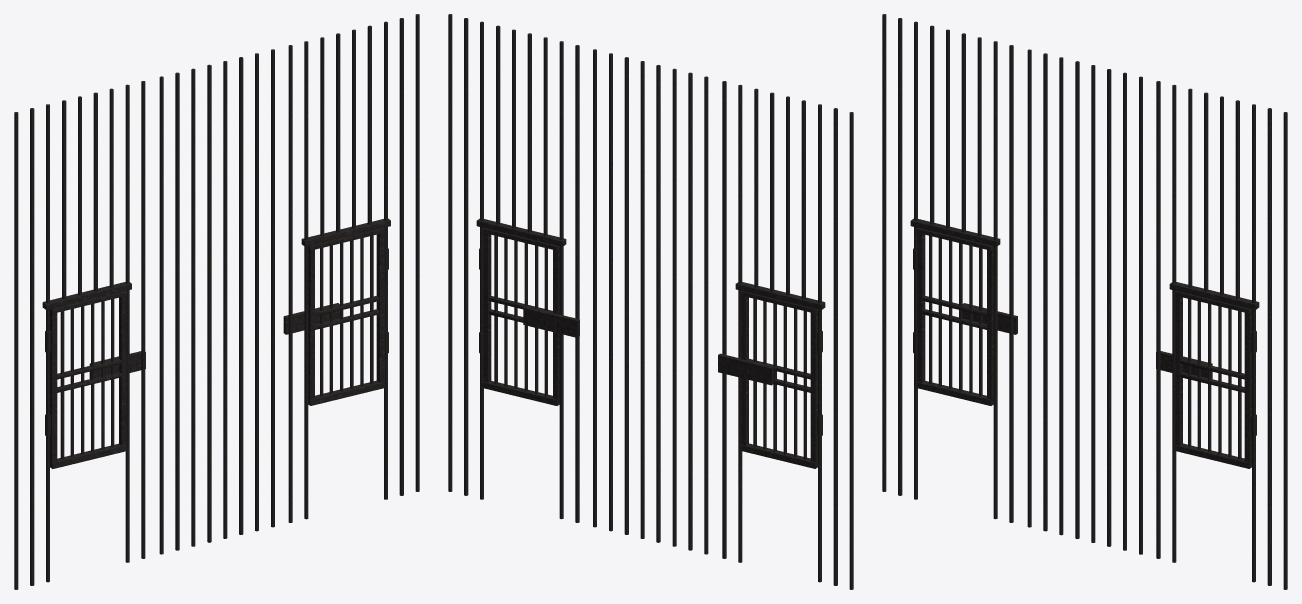
The model's file is Sewer_Gates.FBX.
3 views of the same model, side by side, from view 1: azimuth 30°, elevation 25°; view 2: azimuth 150°, elevation 25°; view 3: azimuth 330°, elevation 25° (orthographic).
Visible parts, largest first — view 1: Sewer_Gates, Sewer_Gate_Left, Sewer_Gate_Right; view 2: Sewer_Gates, Sewer_Gate_Left, Sewer_Gate_Right; view 3: Sewer_Gates, Sewer_Gate_Right, Sewer_Gate_Left.
Part boxes in pixels (x1,y1,x2,y2): Sewer_Gates: (14,14,419,589); Sewer_Gate_Left: (42,282,131,468); Sewer_Gate_Right: (301,218,390,405); Sewer_Gates: (448,14,853,589); Sewer_Gate_Left: (735,282,825,468); Sewer_Gate_Right: (476,218,566,405); Sewer_Gates: (882,14,1287,589); Sewer_Gate_Right: (1169,282,1259,468); Sewer_Gate_Left: (910,218,1000,405).
Size of the model in its own units: 539 by 606 by 12.05.
1 material, 1 textured.
